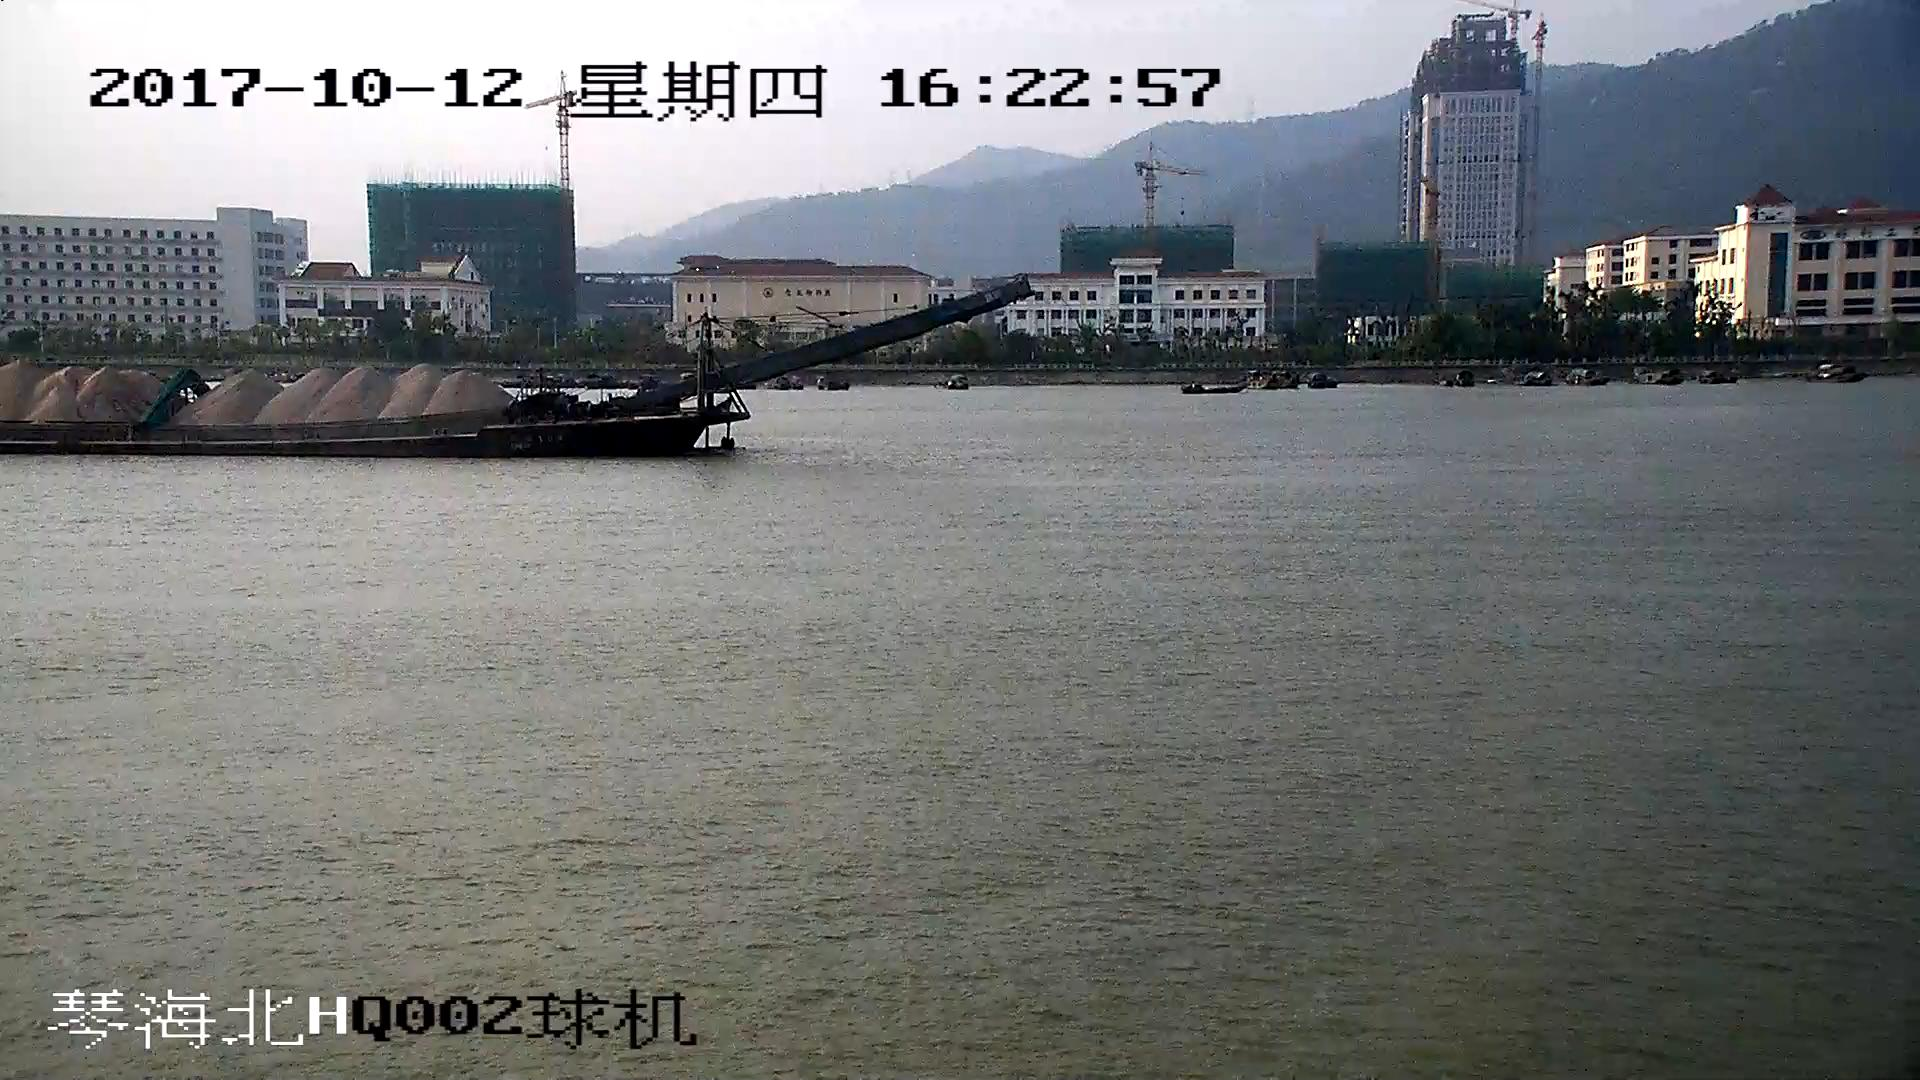ore carrier: (1, 282, 1028, 453)
